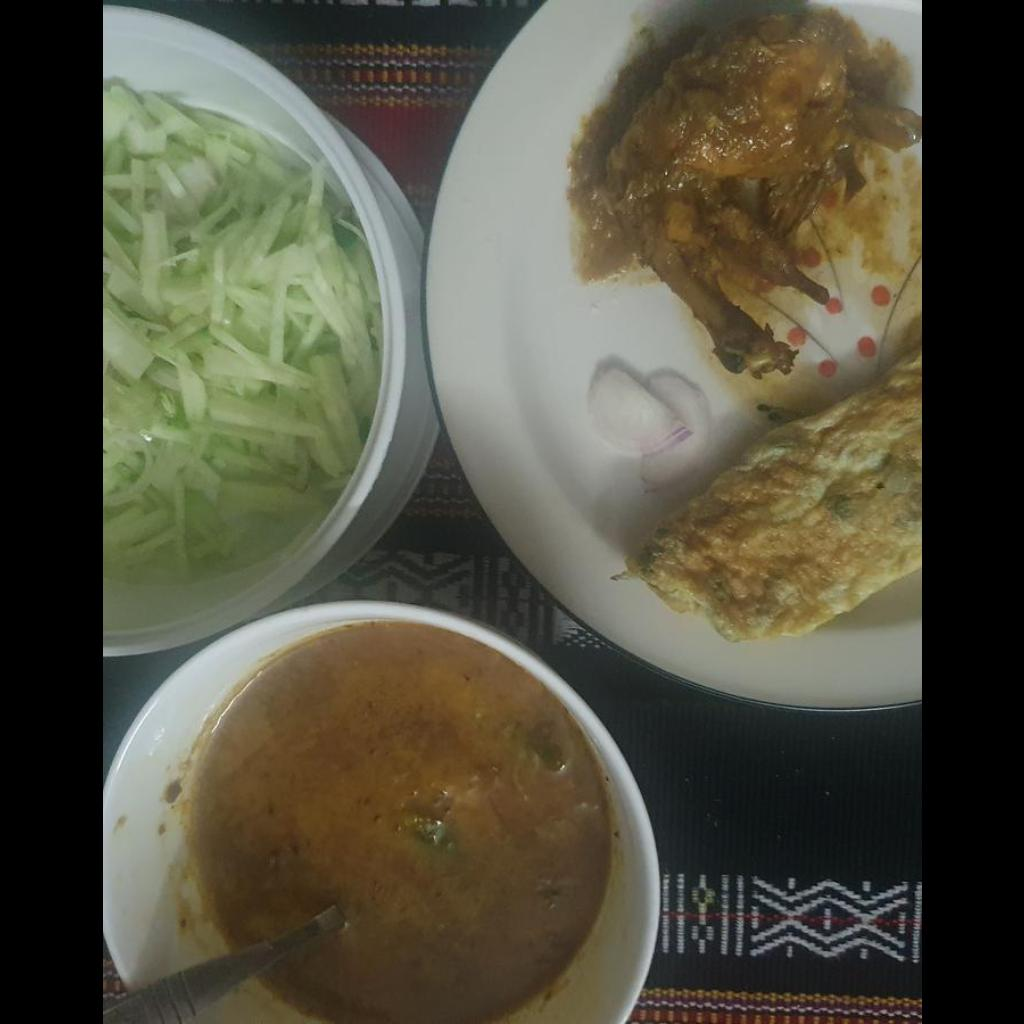chicken: (596, 9, 920, 373)
daal: (194, 627, 614, 1020)
egg-poached: (641, 360, 919, 644)
salad: (103, 77, 382, 584)
